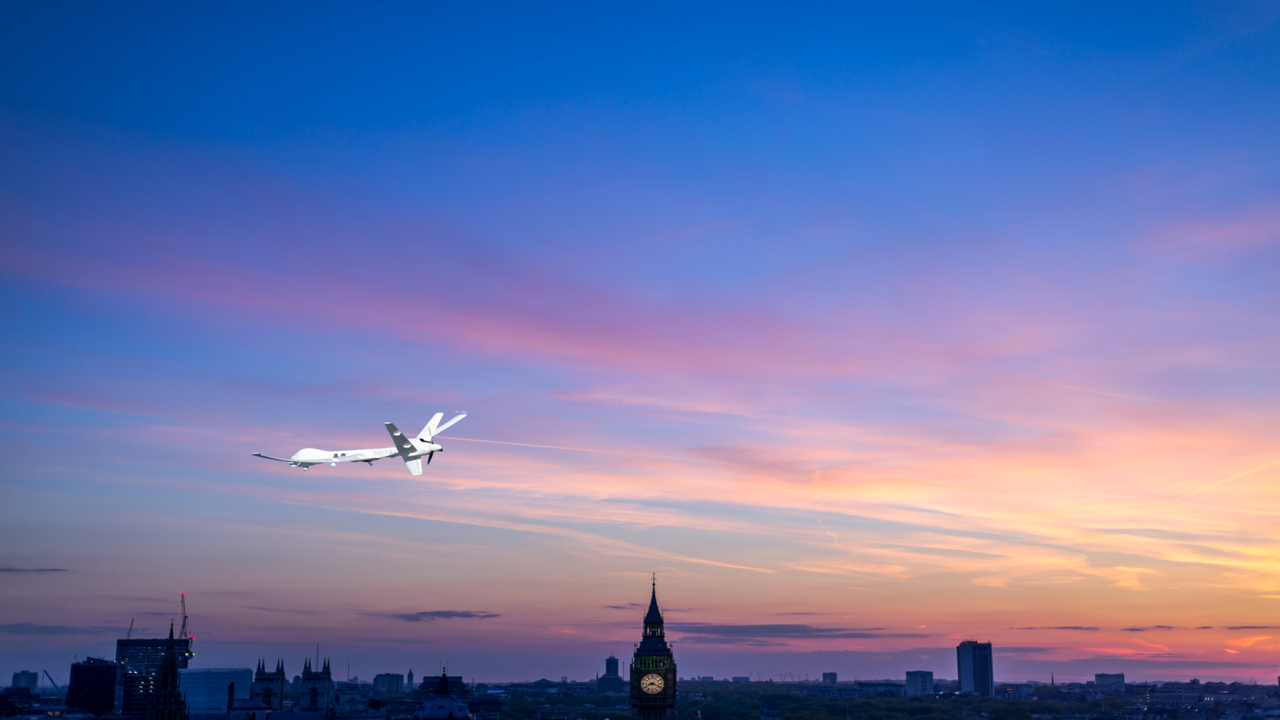military drone: (251, 411, 467, 475)
